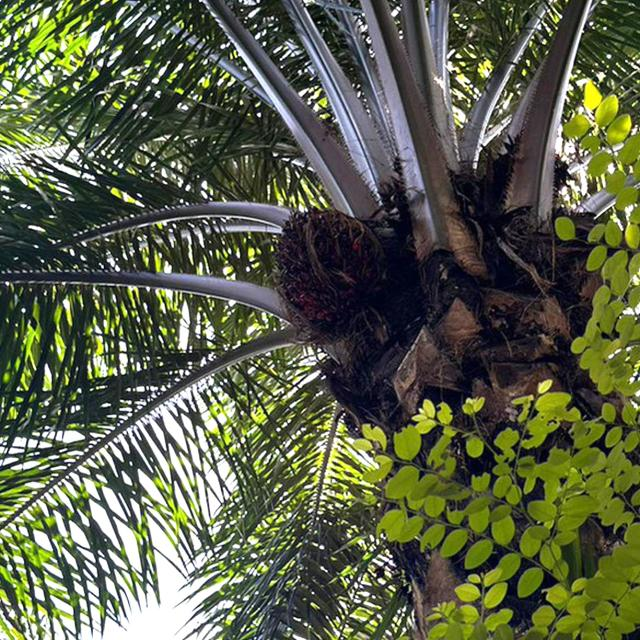ripe: (262, 193, 382, 336)
